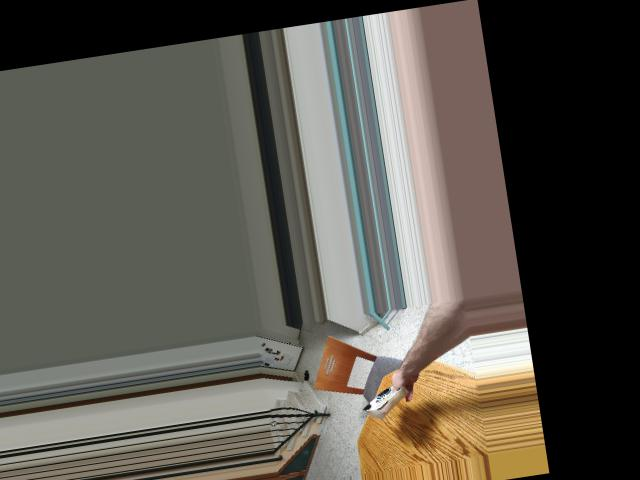cheese: (358, 380, 413, 421)
